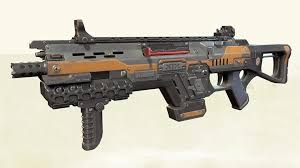gun: (8, 18, 292, 152)
